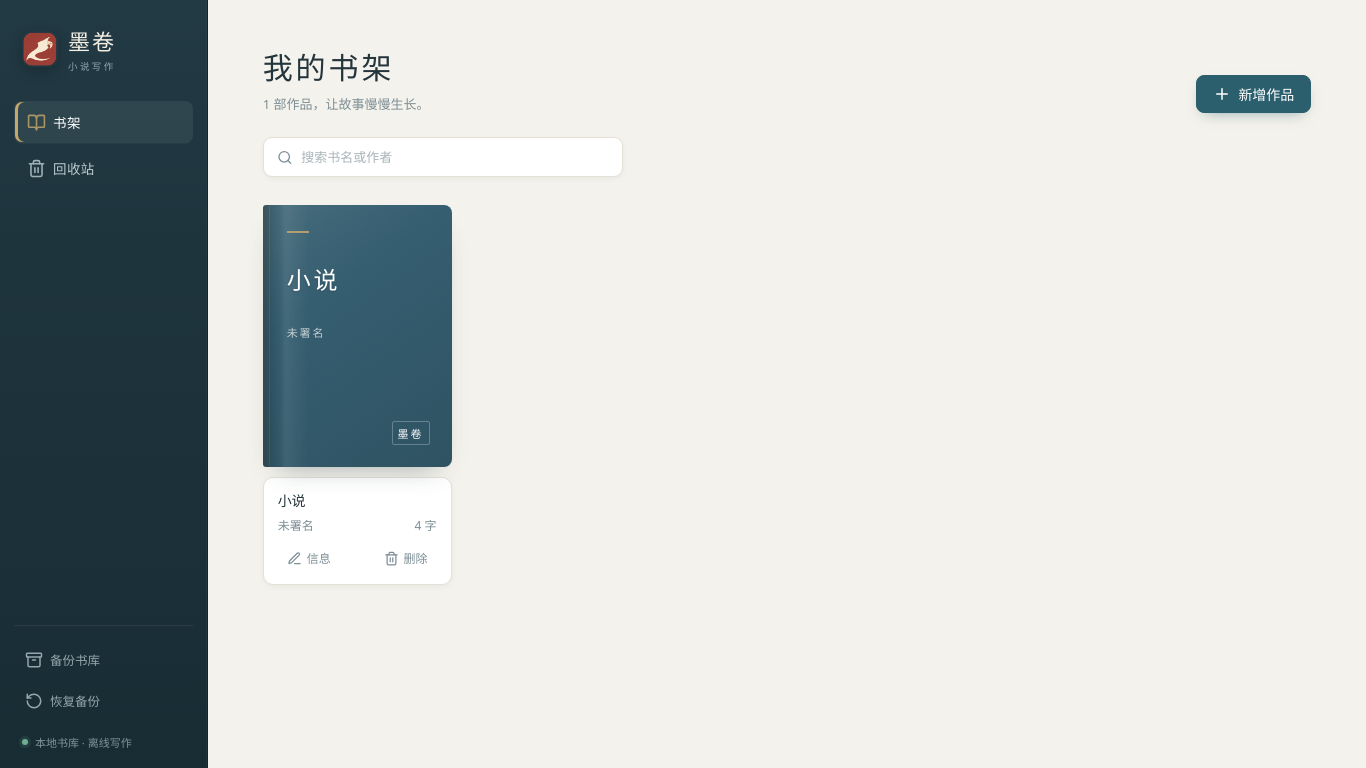
Test case: flush failure keeps the manuscript and prevents opening batch replace
Click the button with aria-label "打开 小说": (357, 336) [263, 205, 452, 467]
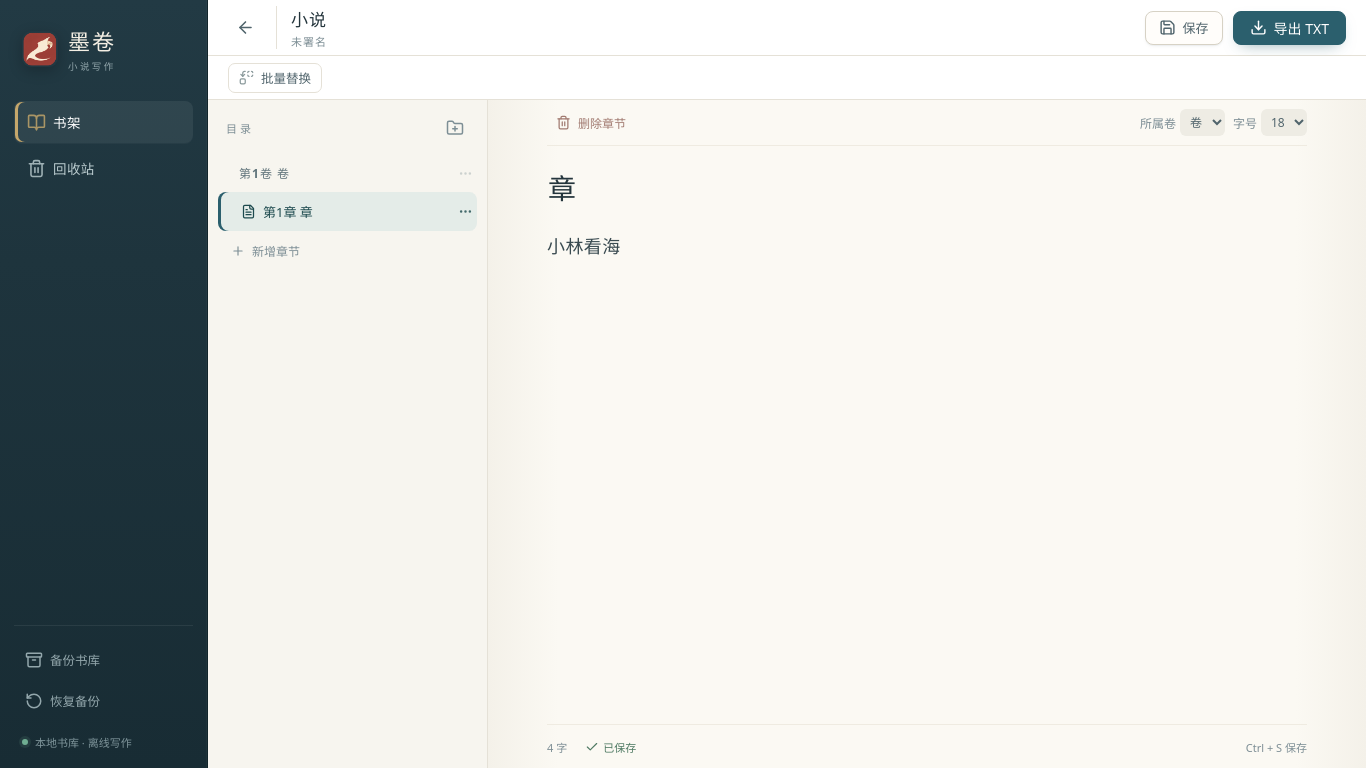
Replace the text in the text box named "章节正文" with "小林还在看海": (927, 472) [547, 220, 1307, 724]
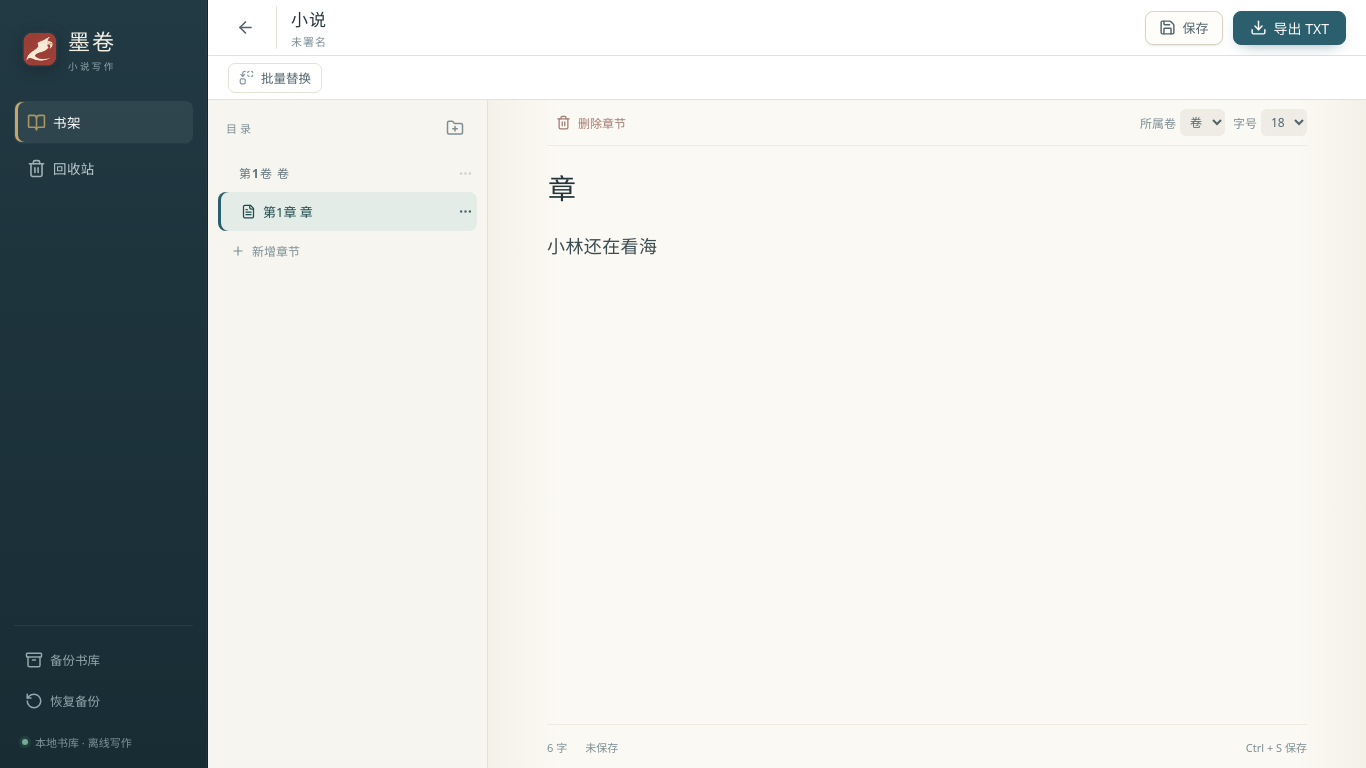
Click the button "批量替换": (275, 78) [228, 62, 322, 92]
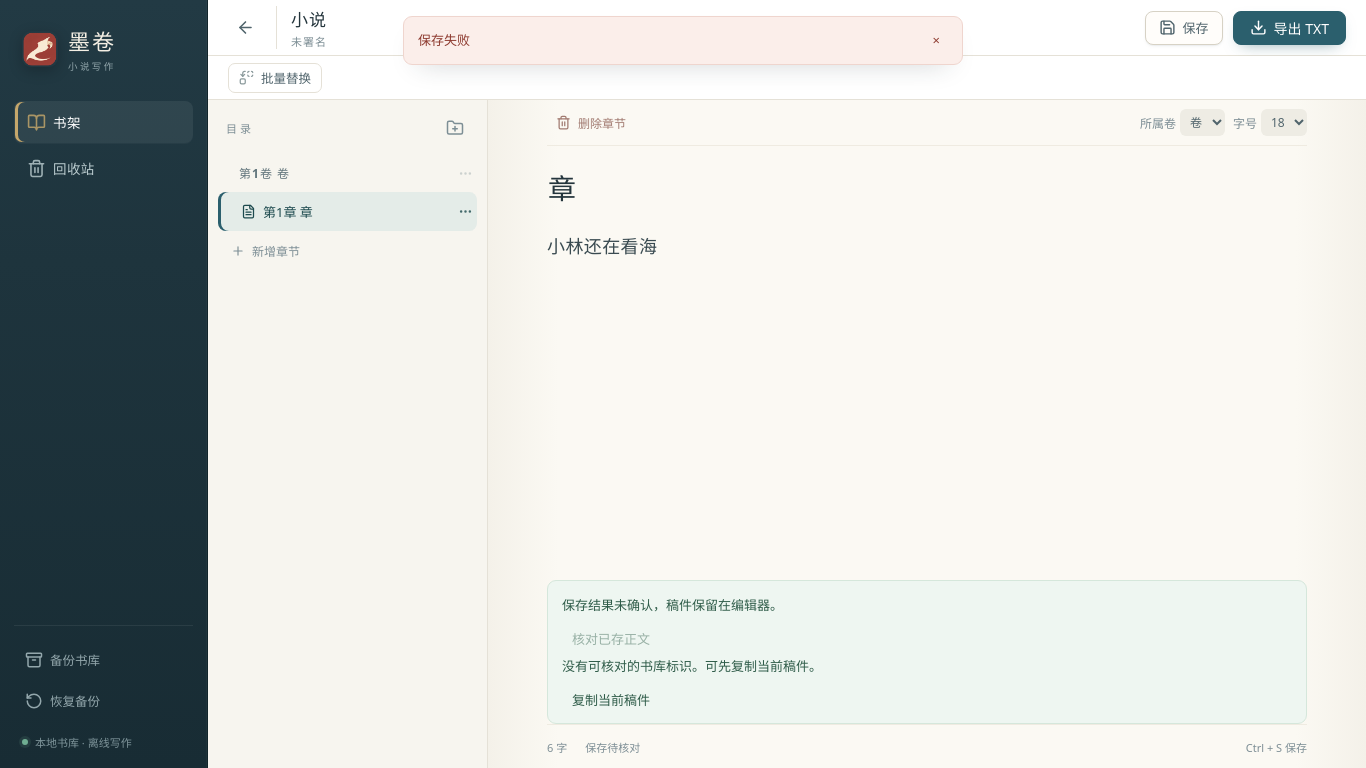
Now the text "保存失败" is shown, box [418, 31, 470, 49]
